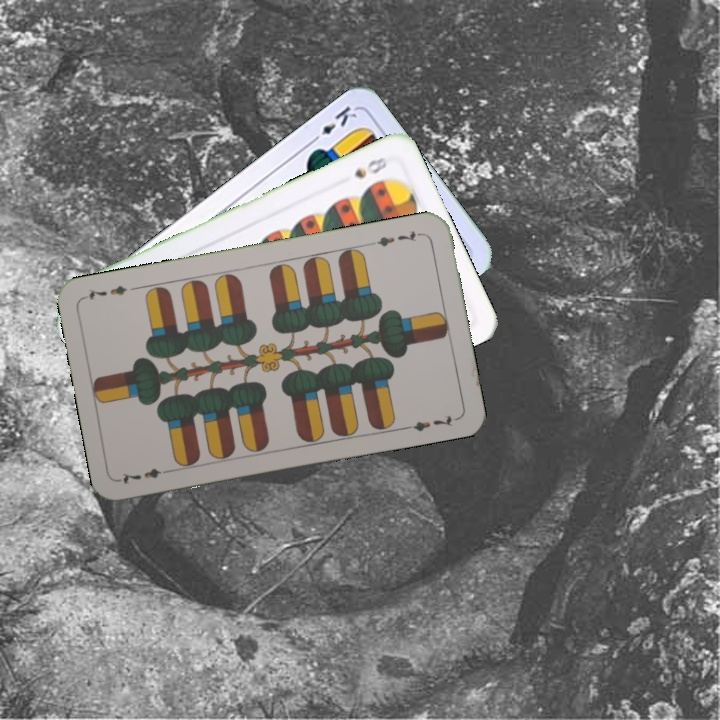E7: (116, 464, 175, 487), (373, 227, 426, 249)
EK: (306, 101, 360, 147)
S8: (350, 151, 393, 182)
